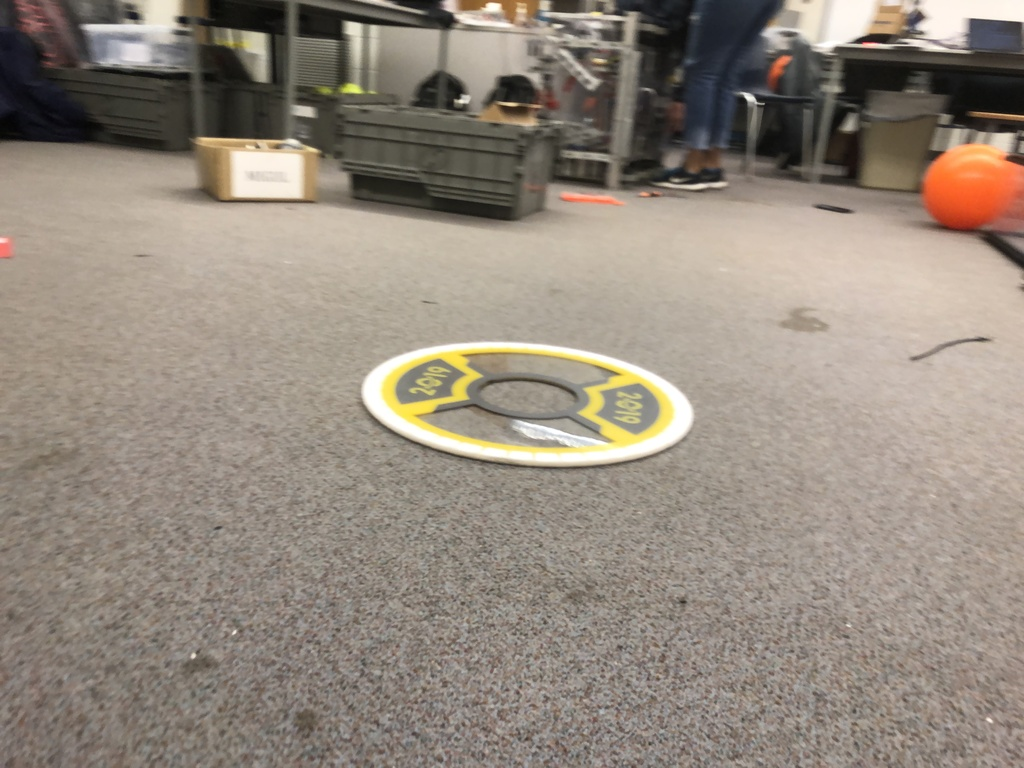hatch_panel: (340, 328, 726, 473)
